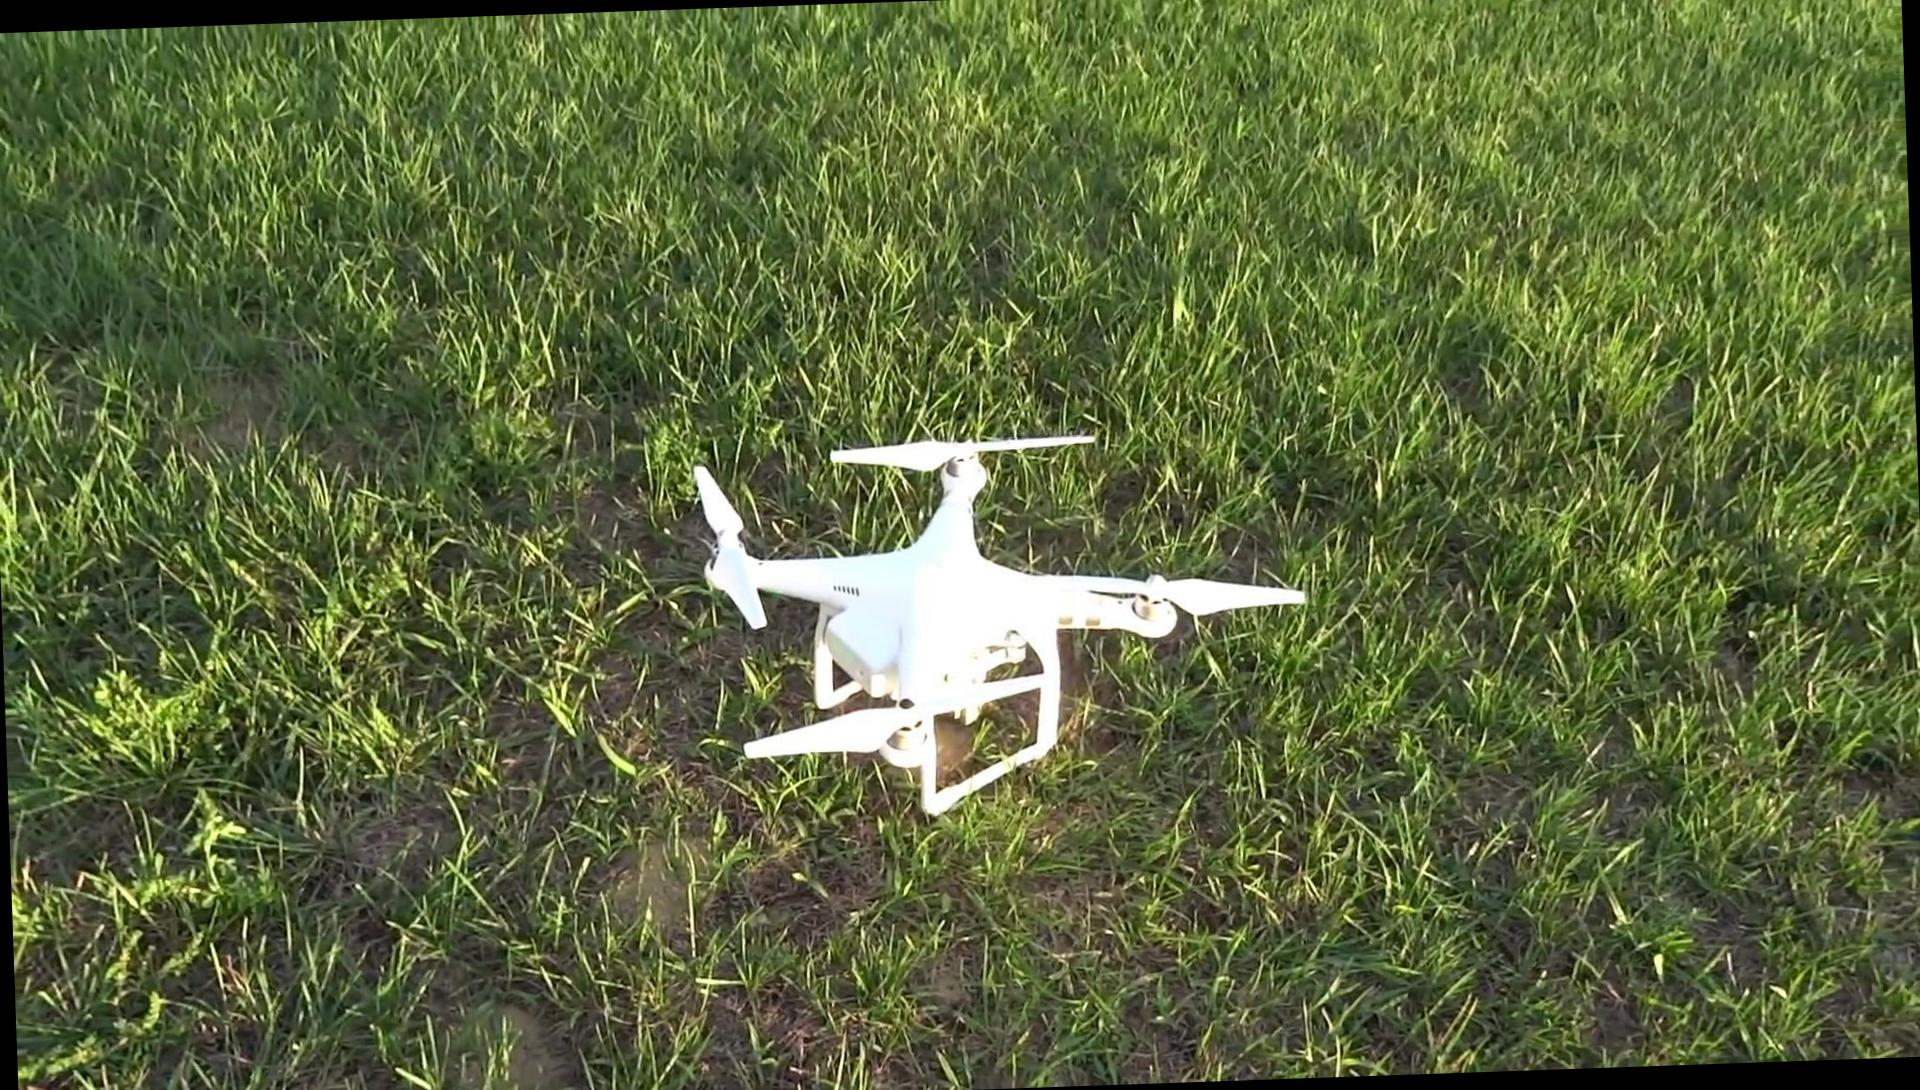drone: (674, 414, 1313, 830)
